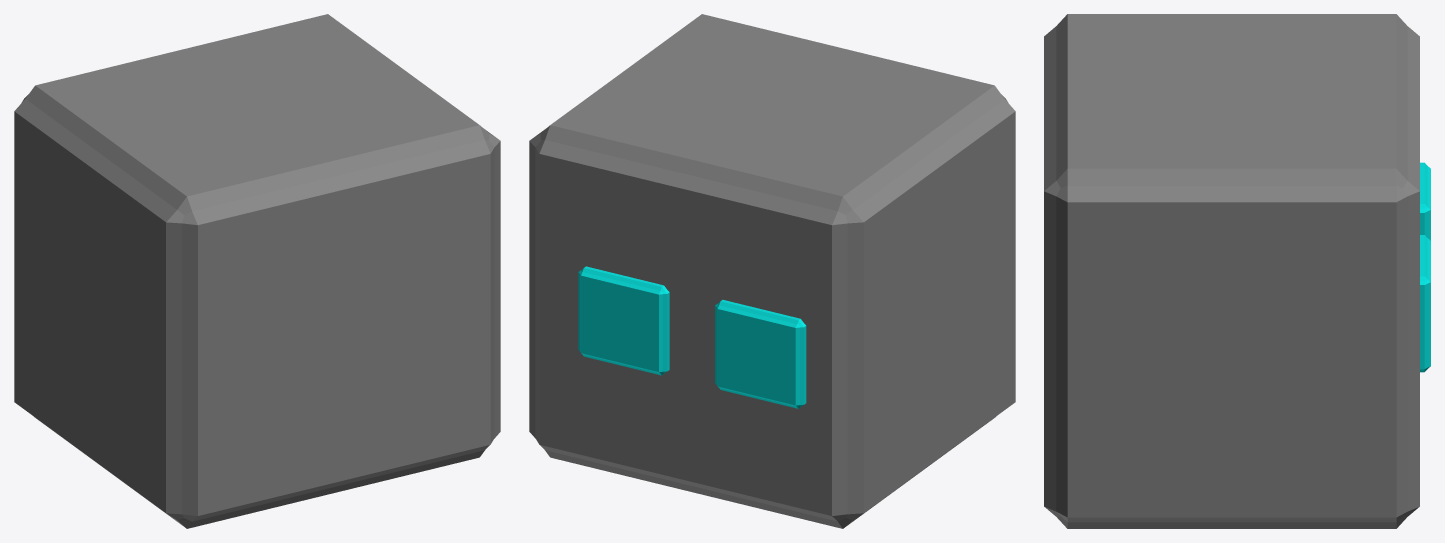
The model's file is head.glb.
3 renders of one model, left to right at view 1: azimuth 30°, elevation 25°; view 2: azimuth 150°, elevation 25°; view 3: azimuth 270°, elevation 25°, orthographic. The views are drawn at different scales.
Visible parts, largest first — view 1: Cube.006; view 2: Cube.006; view 3: Cube.006.
Boxes of the visible parts, x1,y1,x2,y2 form: Cube.006: (14, 14, 500, 528); Cube.006: (529, 14, 1015, 528); Cube.006: (1044, 14, 1430, 528).
Bounding box in the file's own units: 1.71 × 1.63 × 1.59.
